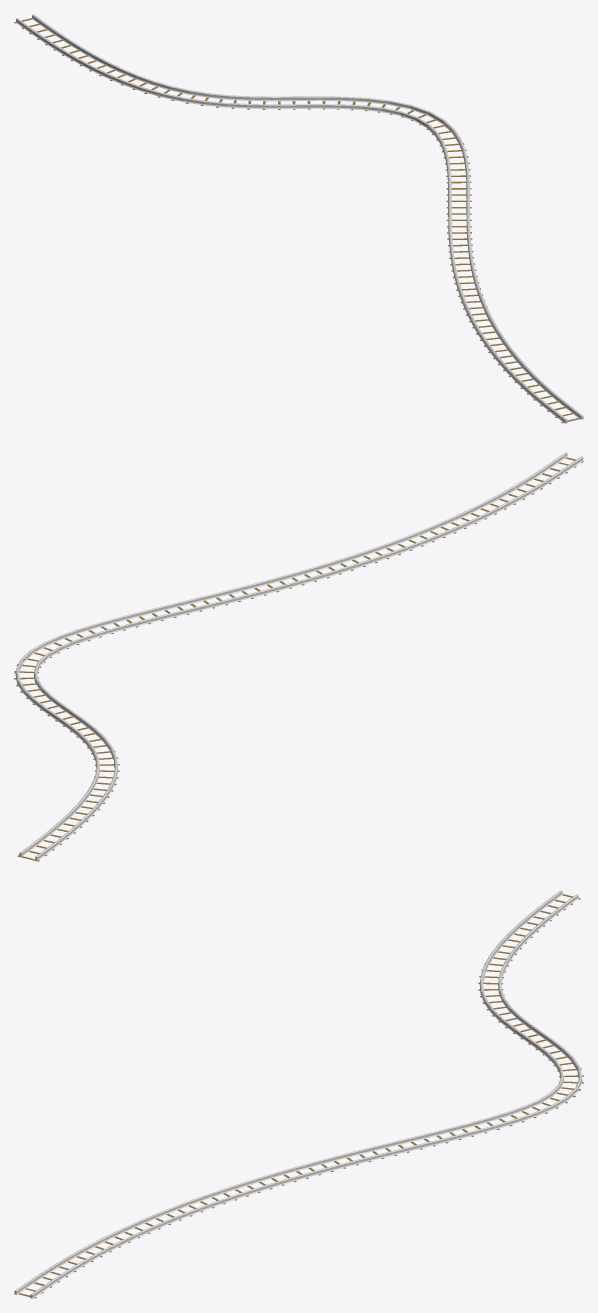
Rendered from right2.fbx.
3 views of the same model, one above another, from view 1: azimuth 30°, elevation 25°; view 2: azimuth 150°, elevation 25°; view 3: azimuth 330°, elevation 25° (orthographic).
Parts seen in each view (by area): view 1: Top, Bot; view 2: Top, Bot; view 3: Top, Bot.
Boxes of the visible parts, box(x1,y1,x2,y2) form: Top: box(16, 14, 583, 423); Bot: box(14, 18, 583, 423); Top: box(15, 452, 583, 860); Bot: box(14, 457, 583, 861); Top: box(14, 890, 582, 1298); Bot: box(14, 894, 583, 1298).
Size of the model in its own units: 3428 by 58.2 by 14714.
